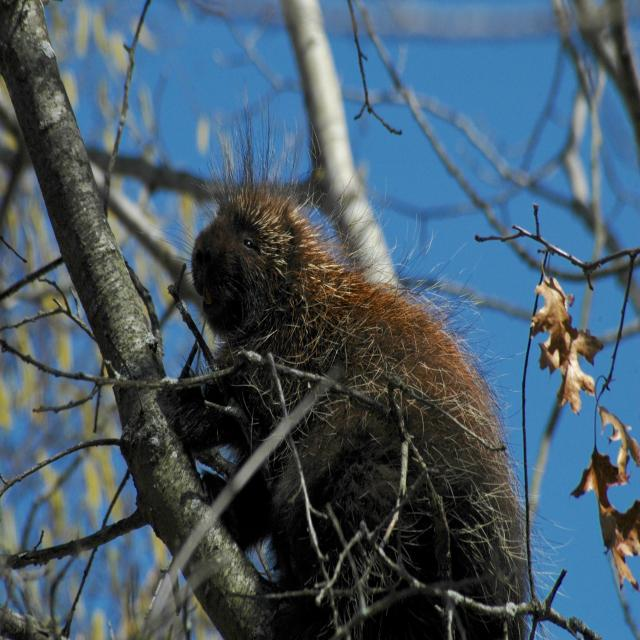Porcupine: (190, 172, 522, 603)
